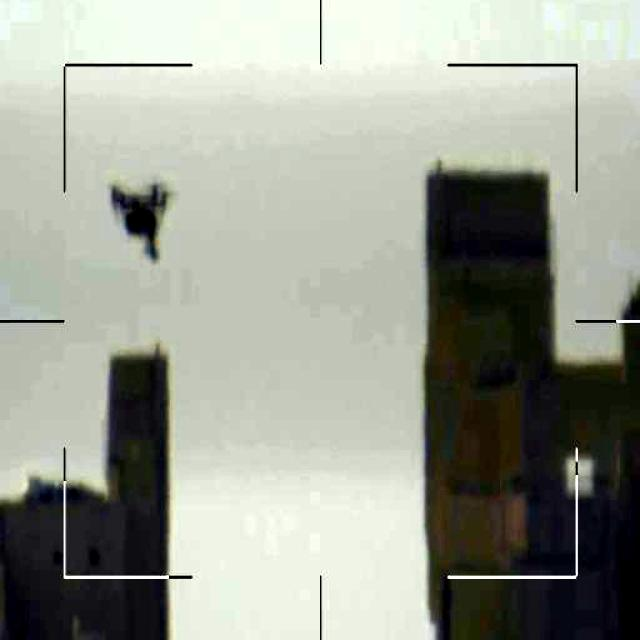bird: (106, 179, 172, 265)
